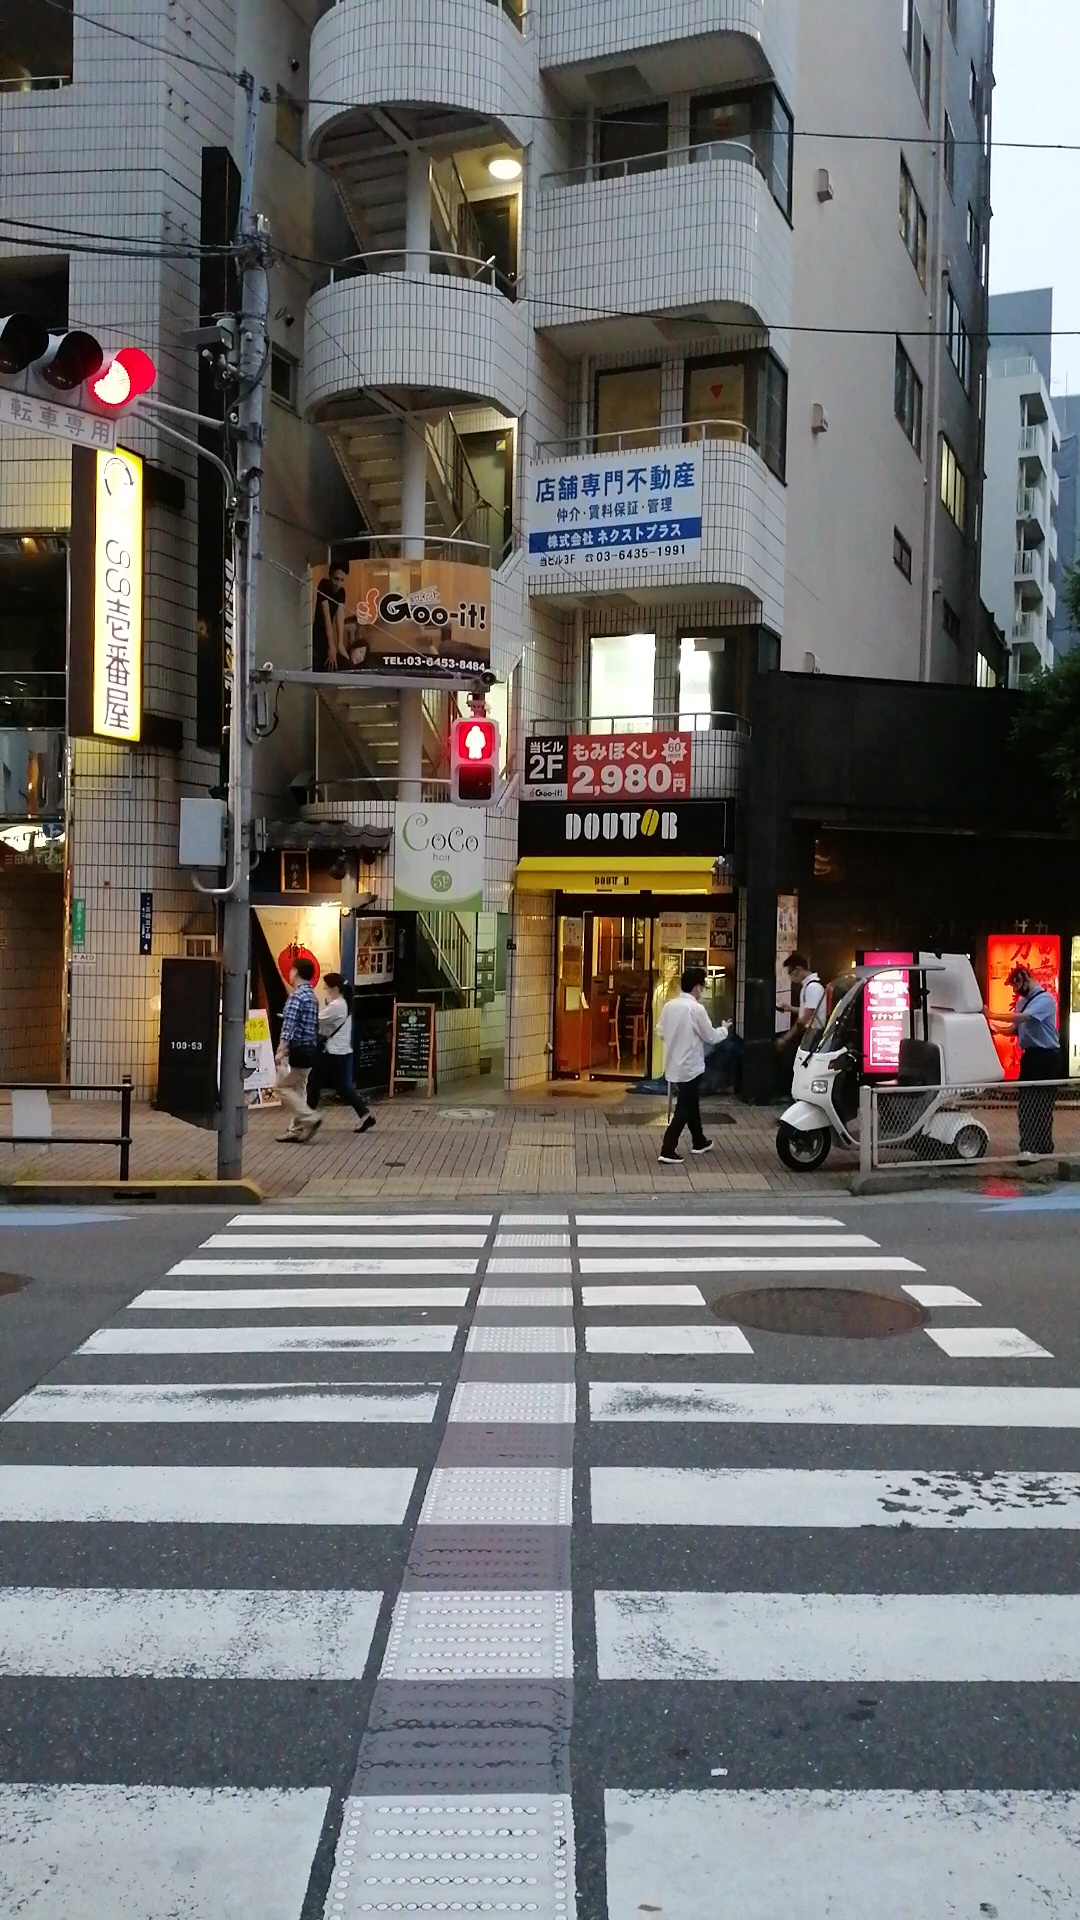red: (450, 717, 498, 804)
